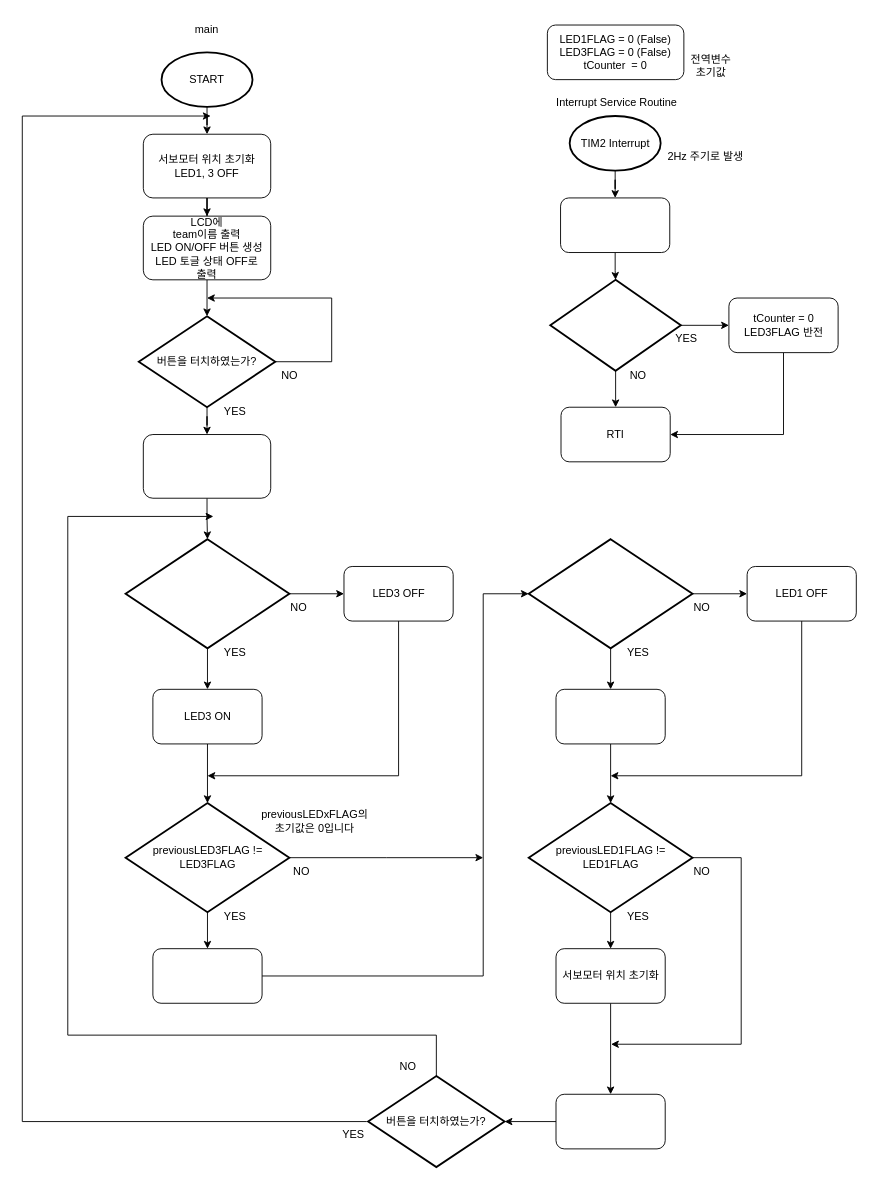
The diagram is 873 pixels wide and 1183 high, and some of its shapes have lost their labels. The shapes that lost their labels are listed below. From the top down, each one's centre as x and y in pixels, then its label:
the point at 615,225: tCounter++ LED1FLAG 반전
the point at 615,324: tCounter >= 10
the point at 206,466: LED 토글 상태 ON으로 출력
the point at 207,593: LED3FLAG == 1
the point at 610,593: LED1FLAG == 1
the point at 610,716: LED1 ON
the point at 207,975: 서보모터 180도 회전
the point at 610,1121: previousLED3FLAG = LED3FLAG previousLED1FLAG =LED1FLAG
